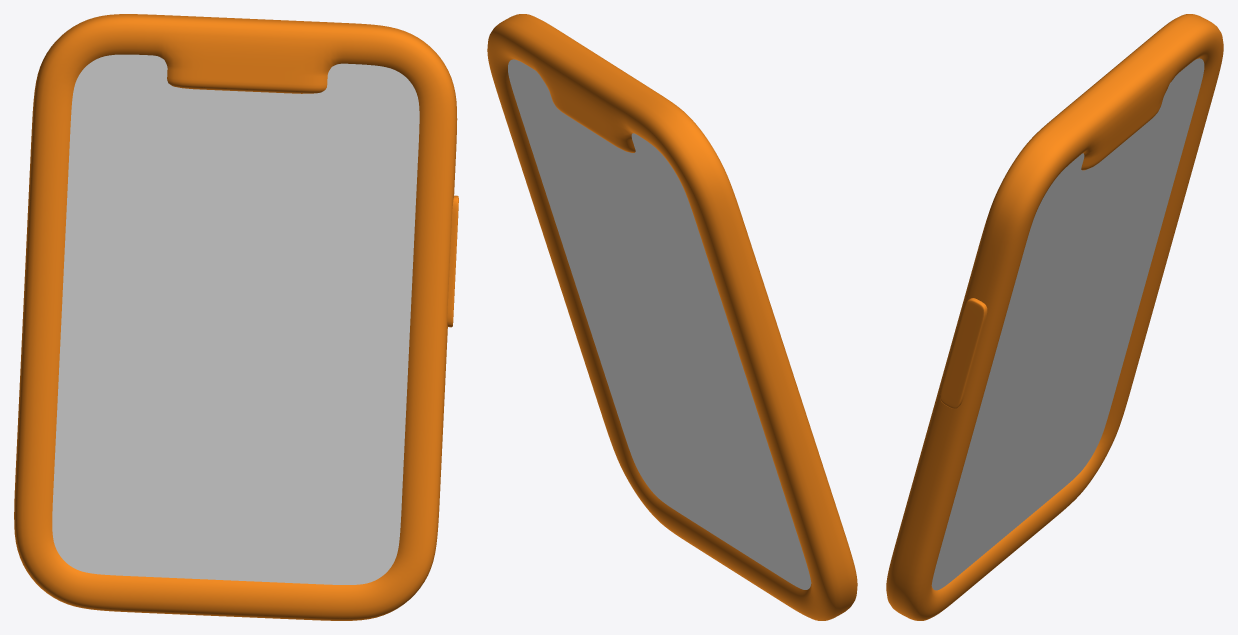
The model's file is smartphone-3d-icon-1123165446173.glb.
3 views of the same model, side by side, from view 1: azimuth 30°, elevation 25°; view 2: azimuth 150°, elevation 25°; view 3: azimuth 270°, elevation 25° (orthographic).
Parts seen in each view (by area): view 1: Screen, Case; view 2: Screen, Case; view 3: Screen, Case.
Boxes of the visible parts, x1,y1,x2,y2 form: Screen: [52, 54, 419, 584]; Case: [14, 14, 458, 620]; Screen: [508, 59, 811, 589]; Case: [487, 14, 857, 620]; Screen: [931, 58, 1204, 590]; Case: [886, 14, 1223, 620].
Bounding box in the file's own units: 2.43 × 3.15 × 1.79.
